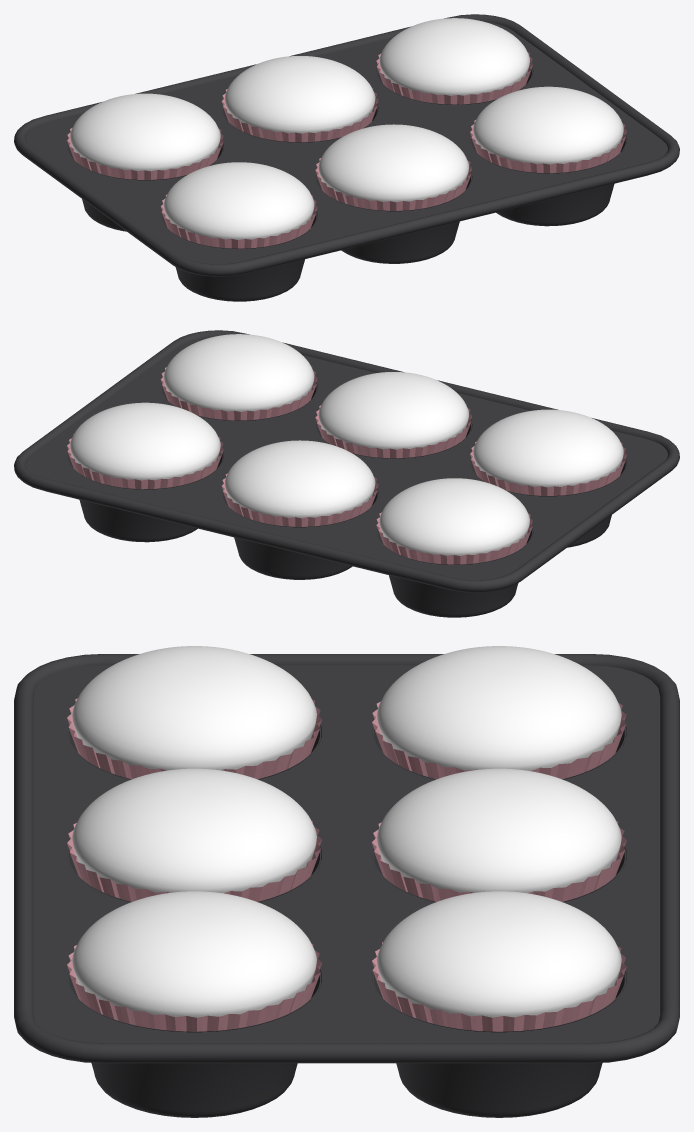
The model's file is cupcake.glb.
The picture shows the model from 3 angles, top to bottom: view 1: azimuth 30°, elevation 25°; view 2: azimuth 150°, elevation 25°; view 3: azimuth 270°, elevation 25°; orthographic projection. The views are drawn at different scales.
Visible parts, largest first — view 1: vessel_머핀틀, vessel_머핀틀_테두리, bread_컵케이크.003, bread_컵케이크.005, bread_컵케이크.002, bread_컵케이크.001, bread_컵케이크, bread_컵케이크.004, vessel_머핀컵, vessel_머핀컵.002, vessel_머핀컵.001, extra_컵받침.001 (+6 smaller); view 2: vessel_머핀틀, vessel_머핀틀_테두리, bread_컵케이크, bread_컵케이크.005, bread_컵케이크.003, bread_컵케이크.004, bread_컵케이크.002, bread_컵케이크.001, vessel_머핀컵.003, vessel_머핀컵.005, vessel_머핀컵.004, extra_컵받침.004 (+6 smaller); view 3: vessel_머핀틀, vessel_머핀틀_테두리, bread_컵케이크.005, bread_컵케이크.002, bread_컵케이크.001, bread_컵케이크.004, bread_컵케이크.003, bread_컵케이크, vessel_머핀컵.005, vessel_머핀컵.002, extra_컵받침.002, extra_컵받침.005 (+4 smaller).
Boxes of the visible parts, <box> form: vessel_머핀틀: <box>26,22,667,264</box>; vessel_머핀틀_테두리: <box>14,14,679,276</box>; bread_컵케이크.003: <box>70,93,220,171</box>; bread_컵케이크.005: <box>379,18,529,95</box>; bread_컵케이크.002: <box>473,86,623,164</box>; bread_컵케이크.001: <box>318,124,468,202</box>; bread_컵케이크: <box>164,162,314,239</box>; bread_컵케이크.004: <box>225,56,375,133</box>; vessel_머핀컵: <box>160,210,317,301</box>; vessel_머핀컵.002: <box>470,134,626,226</box>; vessel_머핀컵.001: <box>315,172,472,263</box>; extra_컵받침.001: <box>315,156,472,210</box>; vessel_머핀틀: <box>26,338,667,580</box>; vessel_머핀틀_테두리: <box>14,330,679,592</box>; bread_컵케이크: <box>473,409,623,487</box>; bread_컵케이크.005: <box>70,402,220,480</box>; bread_컵케이크.003: <box>379,478,529,555</box>; bread_컵케이크.004: <box>225,440,375,518</box>; bread_컵케이크.002: <box>164,334,314,411</box>; bread_컵케이크.001: <box>318,372,468,449</box>; vessel_머핀컵.003: <box>376,527,533,617</box>; vessel_머핀컵.005: <box>67,451,223,542</box>; vessel_머핀컵.004: <box>221,488,378,579</box>; extra_컵받침.004: <box>221,472,378,526</box>; vessel_머핀틀: <box>33,665,660,1043</box>; vessel_머핀틀_테두리: <box>14,654,679,1063</box>; bread_컵케이크.005: <box>377,891,621,1017</box>; bread_컵케이크.002: <box>72,891,316,1017</box>; bread_컵케이크.001: <box>72,768,316,893</box>; bread_컵케이크.004: <box>377,768,621,893</box>; bread_컵케이크.003: <box>377,646,621,770</box>; bread_컵케이크: <box>72,646,316,770</box>; vessel_머핀컵.005: <box>372,971,626,1117</box>; vessel_머핀컵.002: <box>67,969,321,1117</box>; extra_컵받침.002: <box>67,943,321,1031</box>; extra_컵받침.005: <box>372,942,626,1031</box>.
Size of the model in its own units: 0.2596 by 0.0507 by 0.1836.
